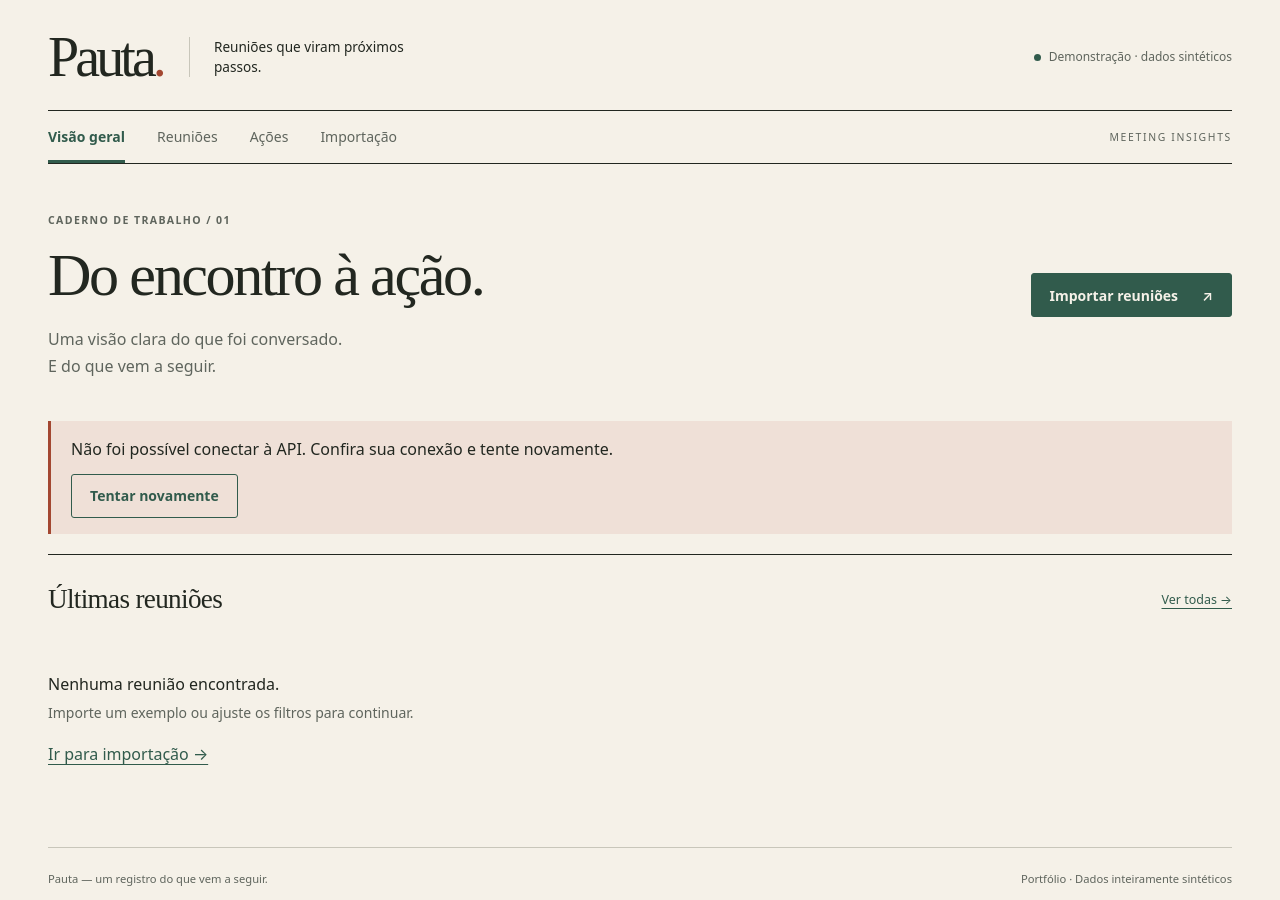
Test: visão geral › permite recuperar falha da API sem recarregar a aplicação
Expected: the message shows "Não foi possível conectar", [71, 438, 613, 460]
Step 1. Click the button "Tentar novamente" → (154, 496), box [71, 474, 238, 518]
(page scrolled)
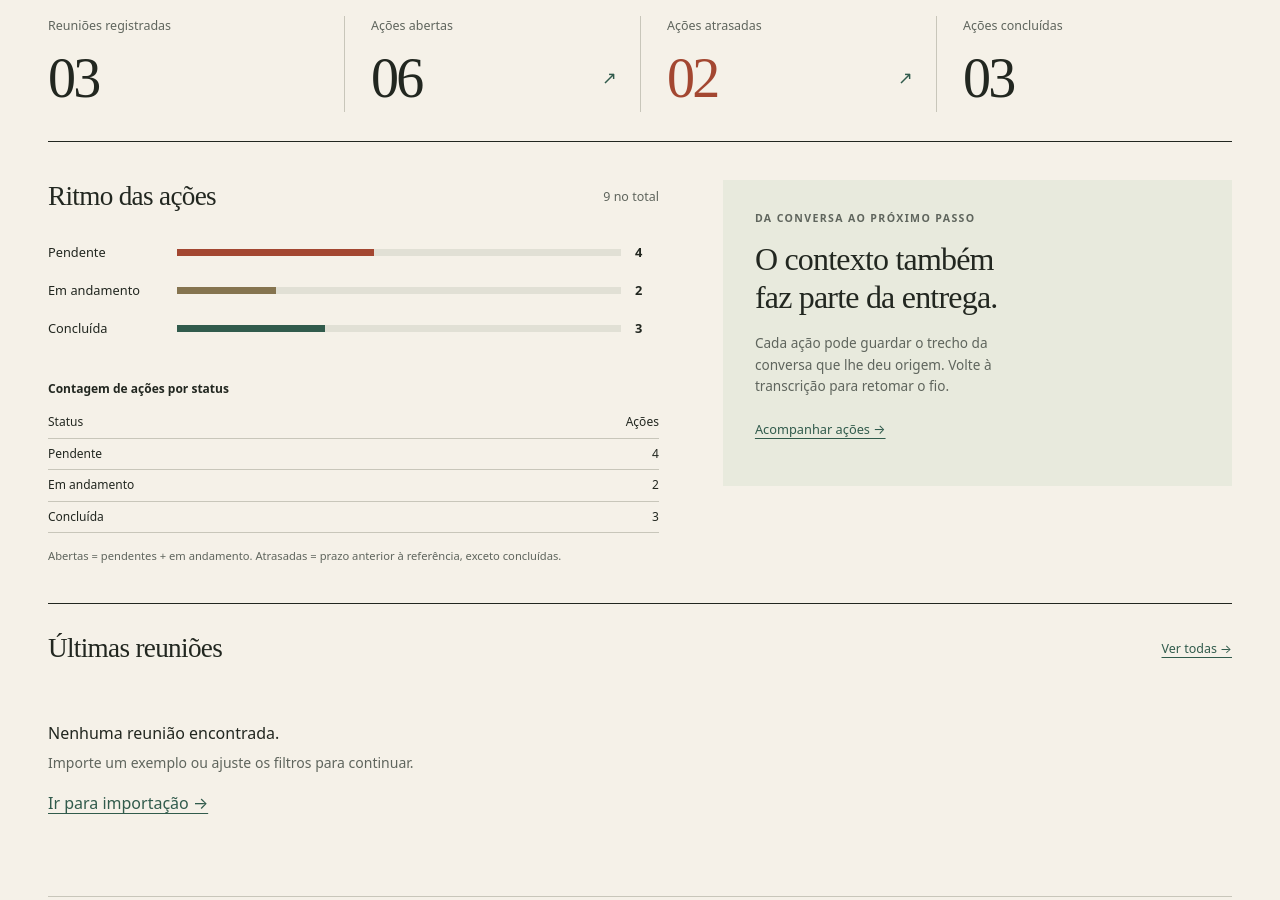
Result: the table is shown at [48, 368, 659, 534]
